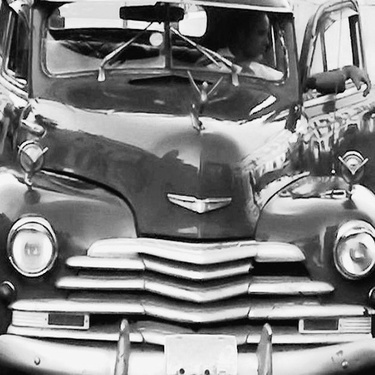car: (1, 3, 366, 348)
